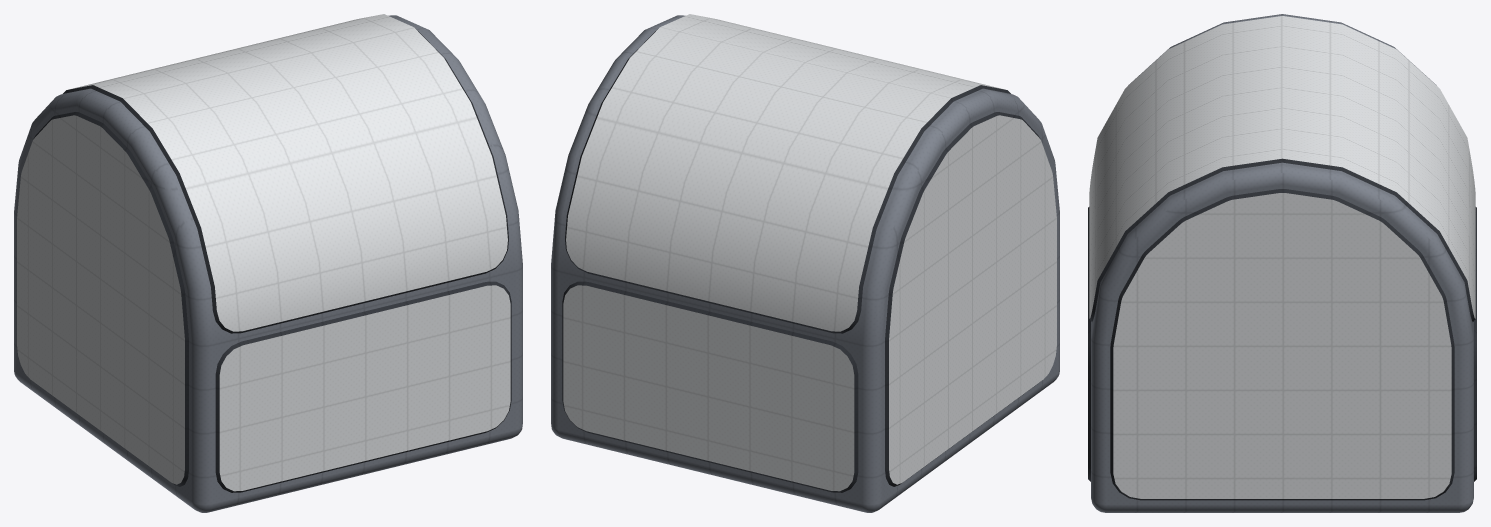
File: R4B_RoundTop.glb
3 renders of one model, left to right at view 1: azimuth 30°, elevation 25°; view 2: azimuth 150°, elevation 25°; view 3: azimuth 270°, elevation 25°, orthographic.
Visible parts, largest first — view 1: R4B_RoundTop; view 2: R4B_RoundTop; view 3: R4B_RoundTop.
Part boxes in pixels (left/top/right/bottom): R4B_RoundTop: left=14, top=14, right=522, bottom=512; R4B_RoundTop: left=551, top=14, right=1059, bottom=512; R4B_RoundTop: left=1088, top=14, right=1476, bottom=512.
Size of the model in its own units: 0.52 by 0.52 by 0.52.
Materials: 3 (3 with a texture image).
